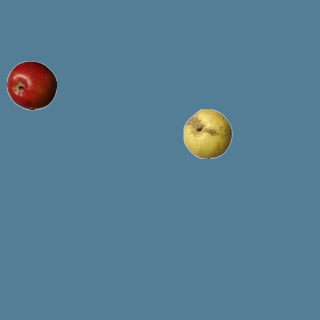Apple Braeburn: (6, 60, 56, 110)
Apple Golden 1: (182, 108, 232, 158)
